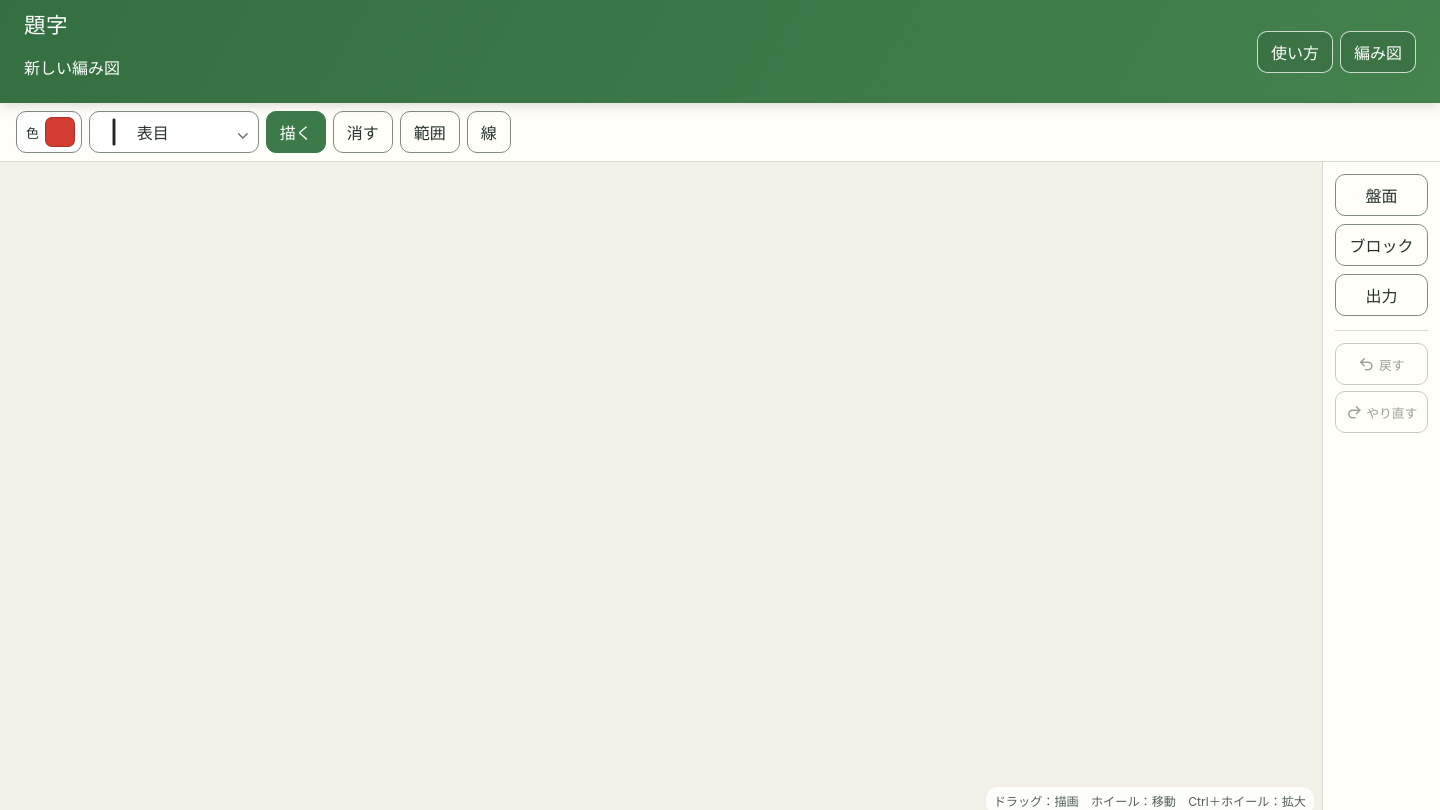
Test: EditorView › shows an empty used-color list and keeps the custom color picker
Click the button with class "color-tool": (49, 132) [16,111,82,153]
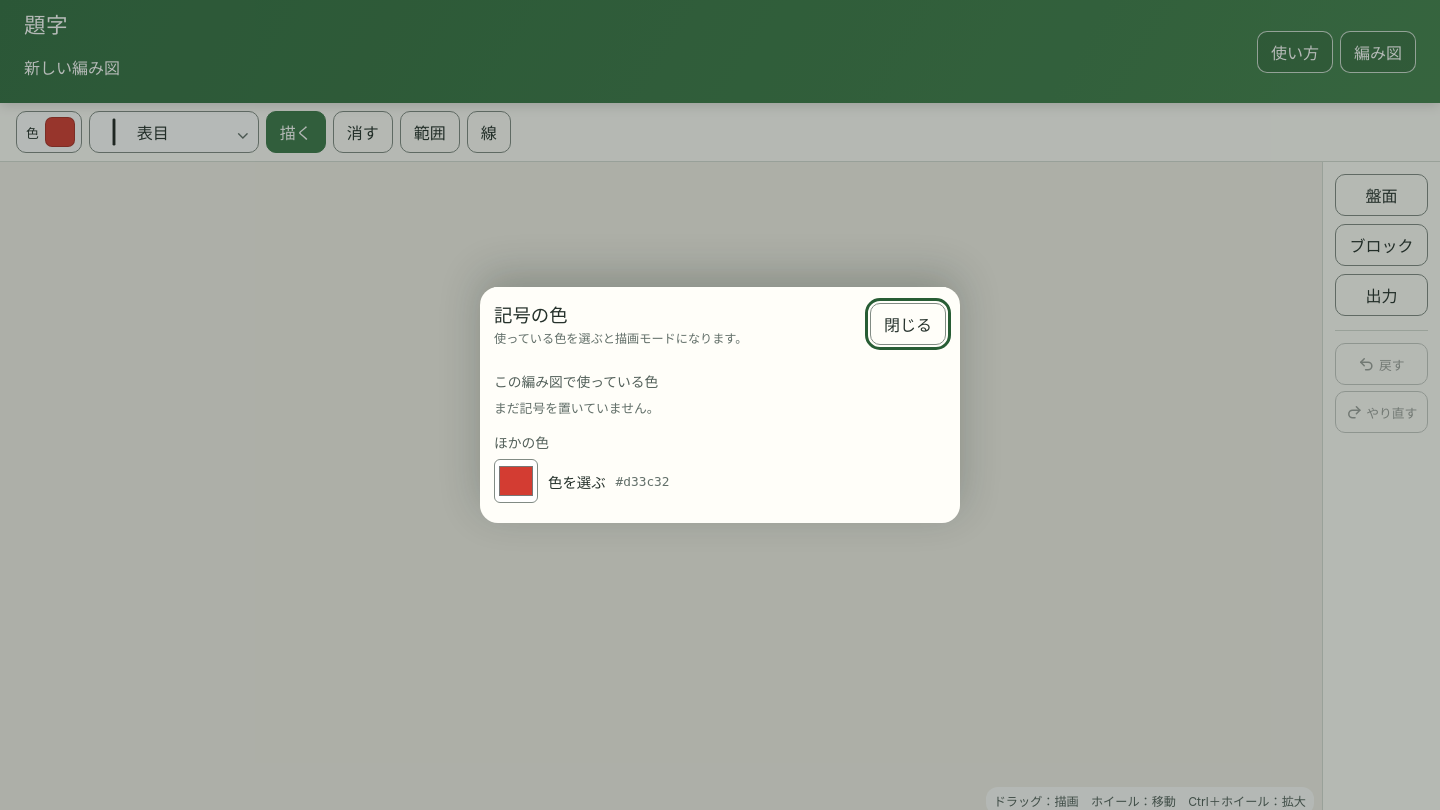
expect the dialog shows "まだ記号を置いていません。": met, box [494,401,660,416]
expect the colour field labelled "色を選ぶ #d33c32" holds "#d33c32": met, box [494,459,538,503]
